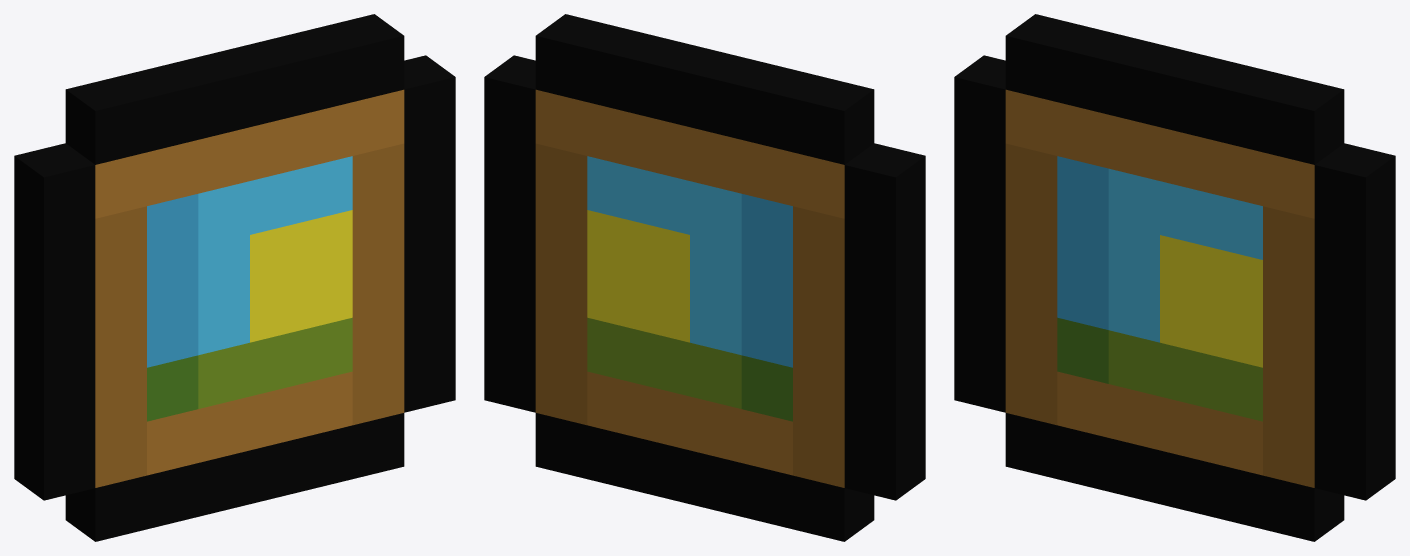
File: clock_wood_late_day.glb
3 renders of one model, left to right at view 1: azimuth 30°, elevation 25°; view 2: azimuth 150°, elevation 25°; view 3: azimuth 330°, elevation 25°, orthographic.
Visible parts, largest first — view 1: generated(Clone); view 2: generated(Clone); view 3: generated(Clone).
Boxes of the visible parts, box(x1,y1,x2,y2) form: generated(Clone): box(14, 14, 455, 541); generated(Clone): box(484, 14, 925, 541); generated(Clone): box(954, 14, 1395, 541).
Bounding box in the file's own units: 8 × 8 × 1.
Materials: 1 (1 with a texture image).
